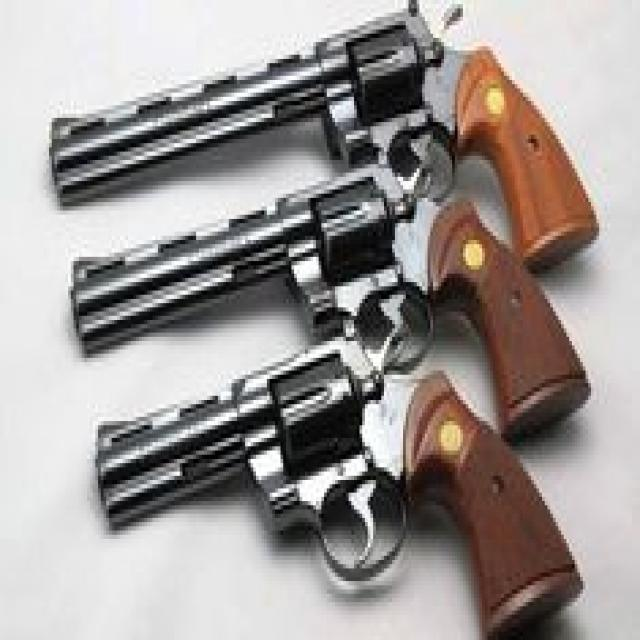revolver: (23, 312, 623, 640)
